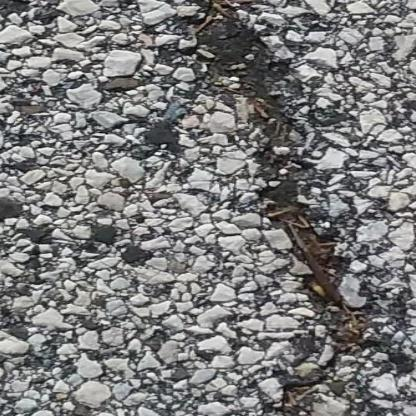Cracks: (136, 0, 416, 416)
